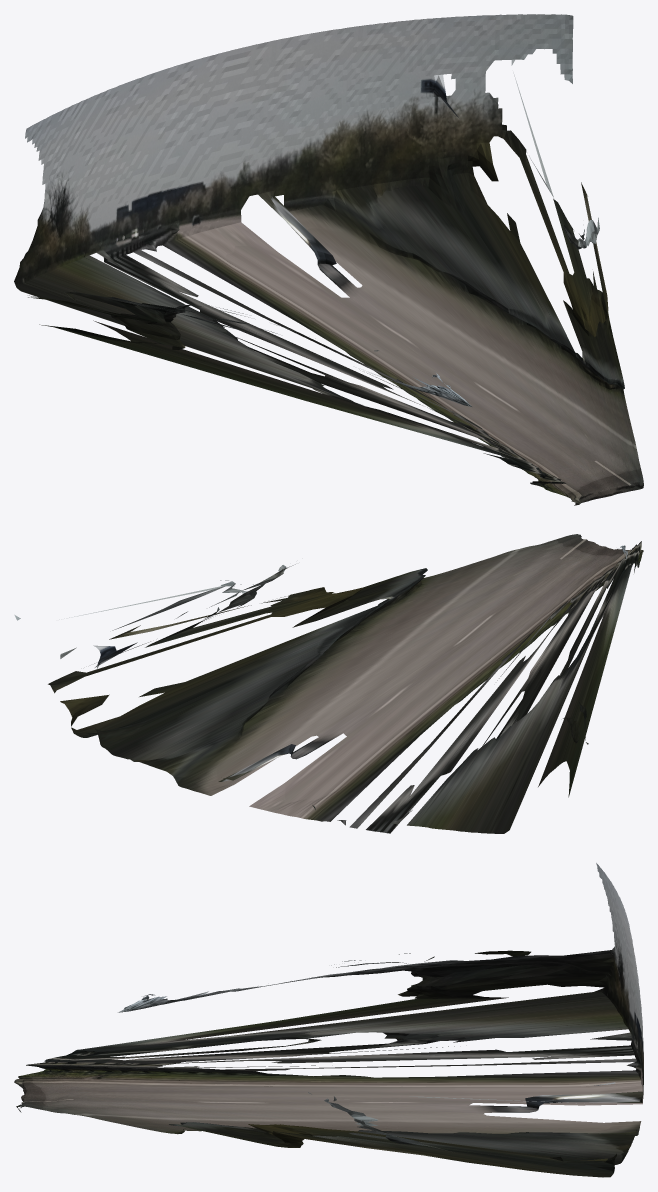
3 renders of one model, top to bottom at view 1: azimuth 30°, elevation 25°; view 2: azimuth 150°, elevation 25°; view 3: azimuth 270°, elevation 25°, orthographic. The views are drawn at different scales.
Parts seen in each view (by area): view 1: defaultobject; view 2: defaultobject; view 3: defaultobject.
Part boxes in pixels (x1=…): defaultobject: x1=14, y1=14, x2=643, y2=505; defaultobject: x1=14, y1=534, x2=643, y2=833; defaultobject: x1=14, y1=863, x2=643, y2=1177.
Size of the model in its own units: 39.11 by 11.97 by 44.68.
Materials: 1 (1 with a texture image).
